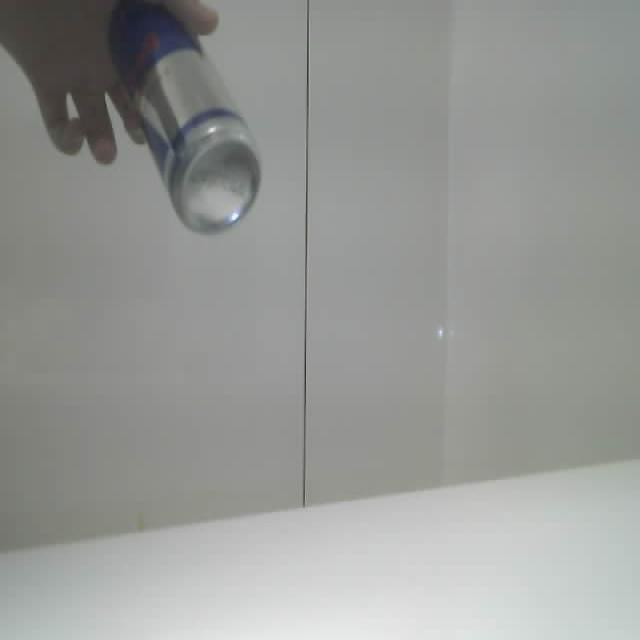redbull can: (109, 0, 259, 233)
